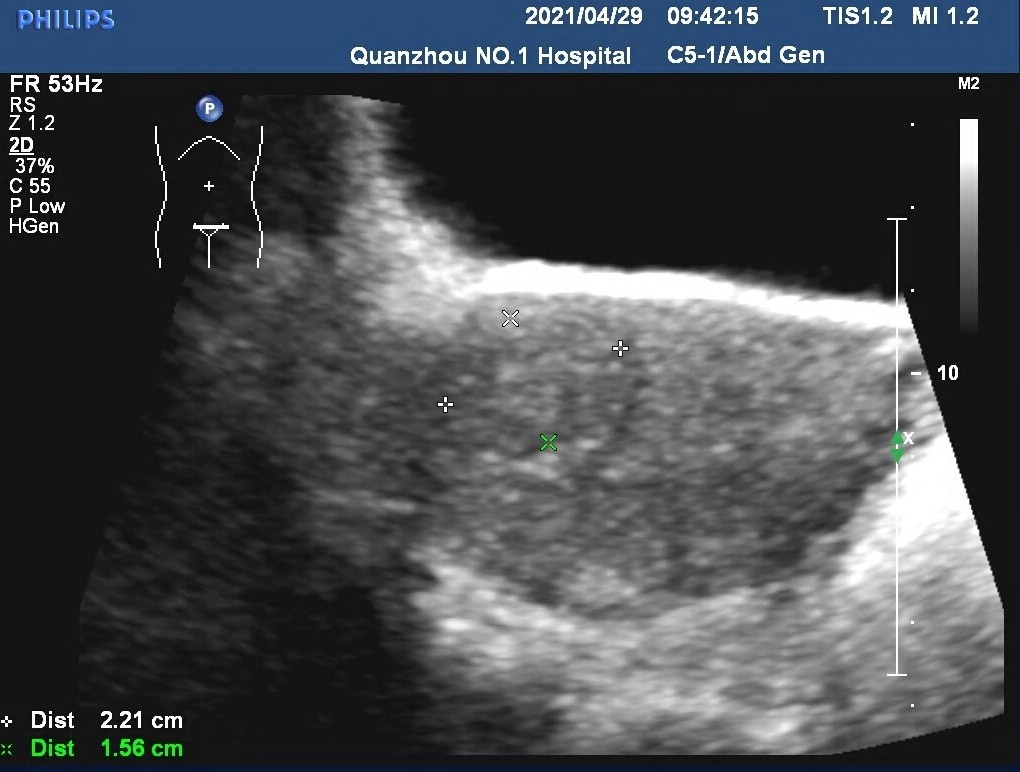肌瘤: (458, 323, 623, 442)
